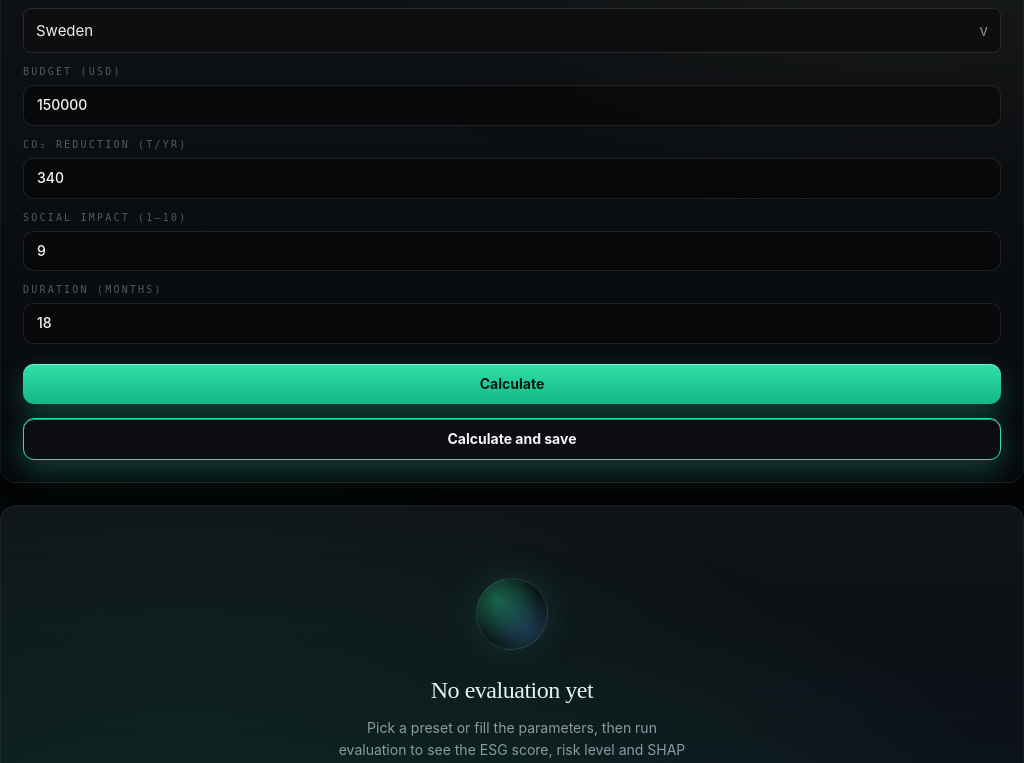
Scenario: a confirmed save › sends ?save=true with the Bearer, no owner fields, and shows the stored answer and its id
The image size is (1024, 763).
(page scrolled)
Click the button "Calculate and save".
click(512, 439)  # box [23,418,1001,460]
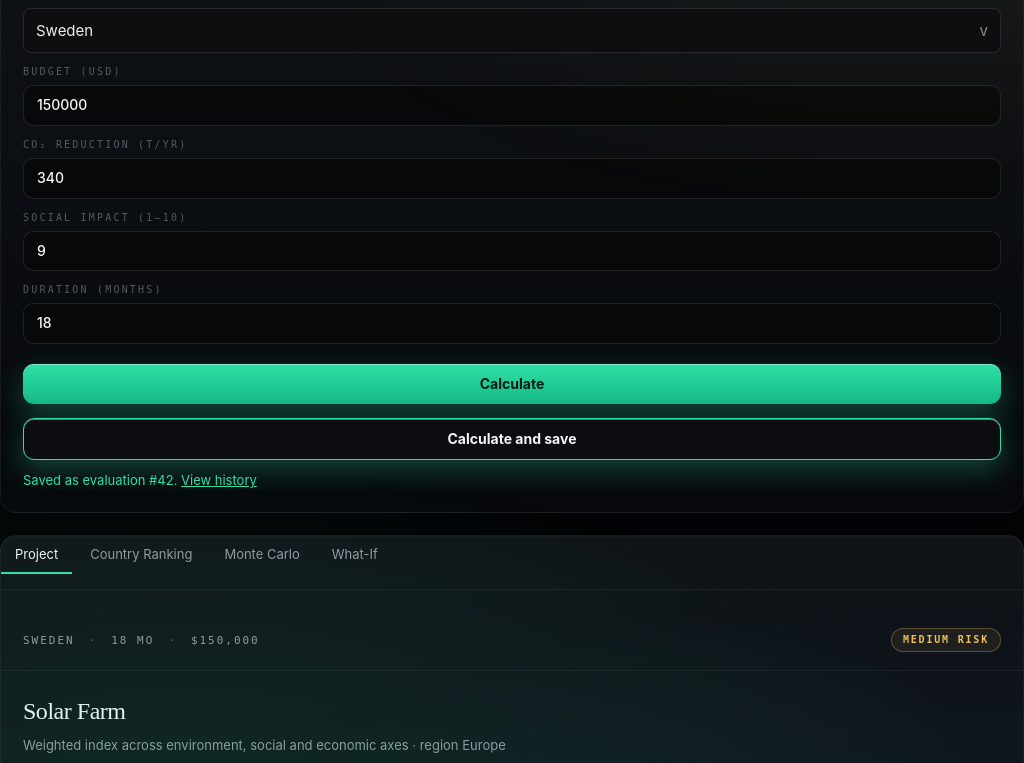
Now the text "Saved as evaluation #42. View history" is shown, box [23,472,257,488]
Now the text "Medium risk" is shown, box [891,628,1001,652]
